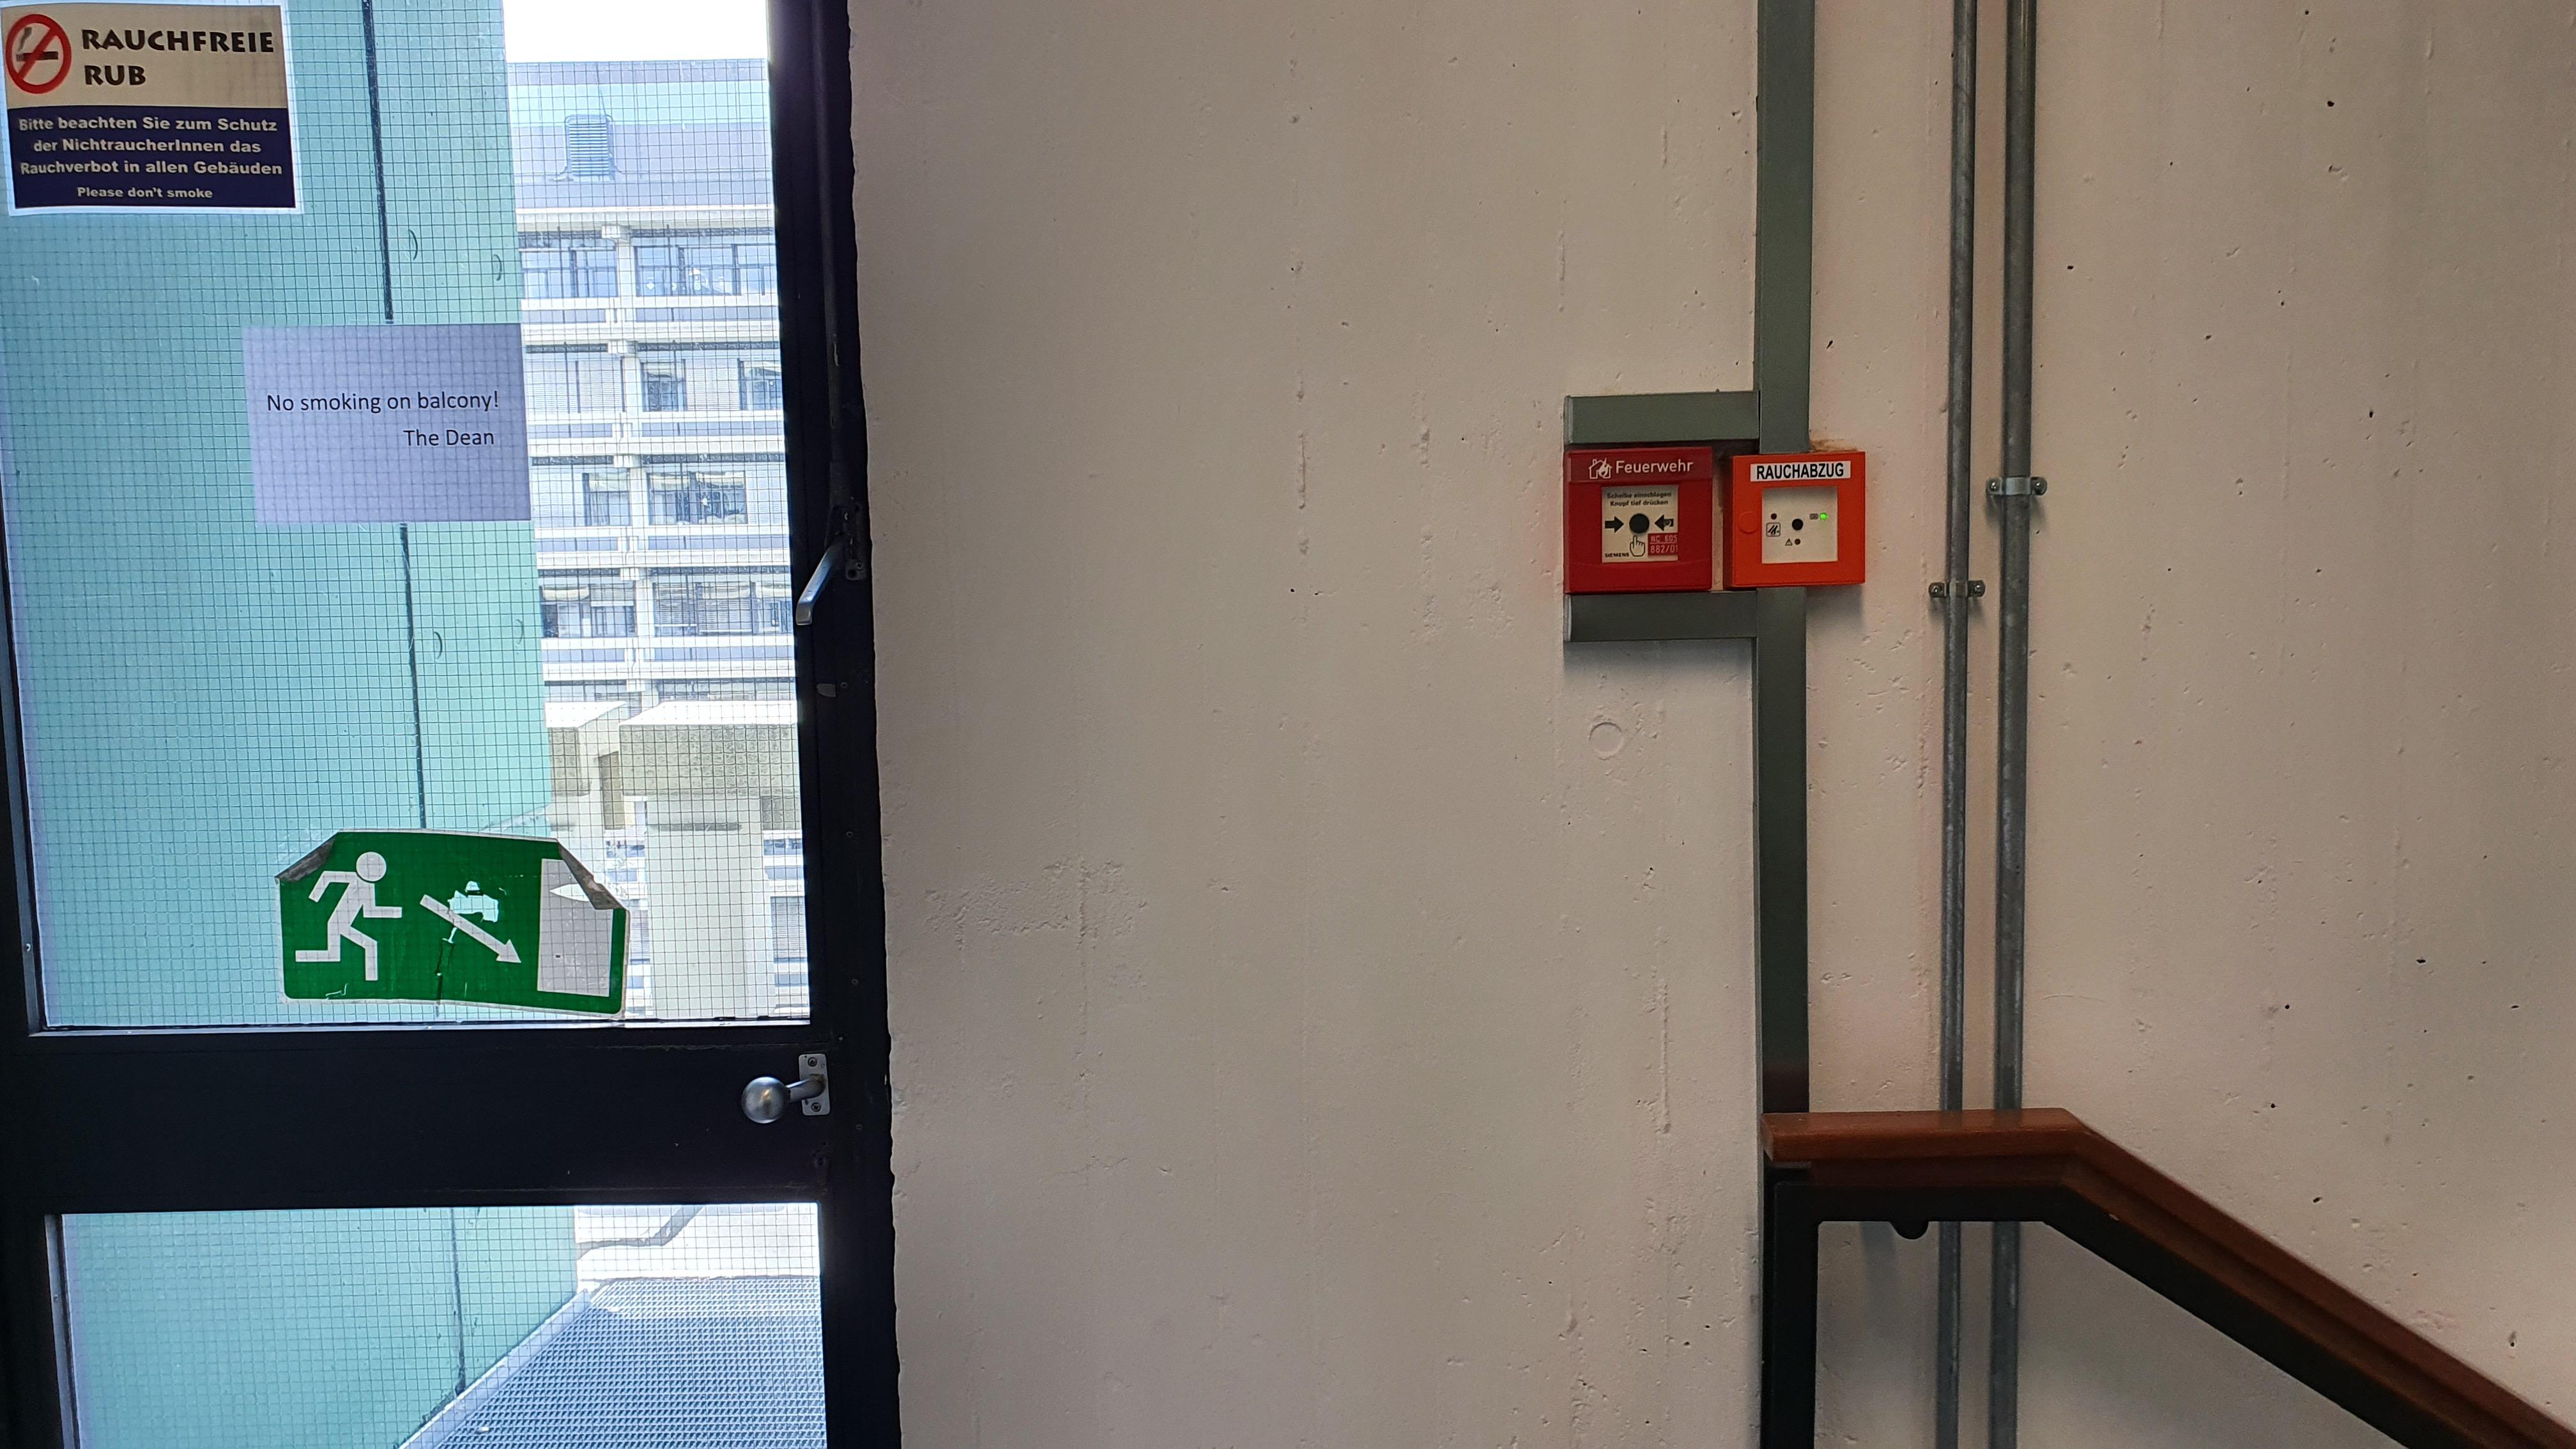call_point: (1562, 446, 1714, 594), (1721, 451, 1867, 587)
